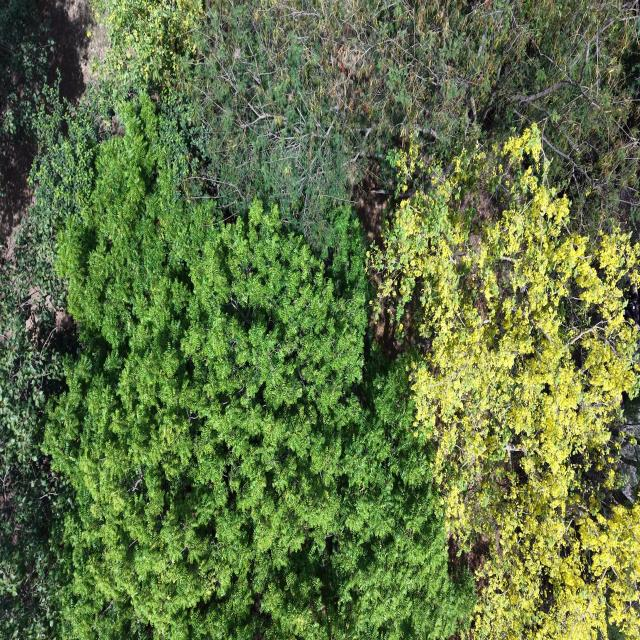DRY_AREA: (39, 0, 106, 103), (0, 140, 36, 245), (354, 166, 392, 247), (369, 302, 419, 358)
VEGETATION_TREE: (0, 0, 639, 639), (46, 96, 473, 638), (372, 126, 639, 638), (100, 0, 638, 251), (181, 0, 638, 247), (0, 0, 99, 638), (0, 101, 104, 639), (0, 0, 53, 243), (92, 0, 206, 95), (0, 0, 53, 147)
